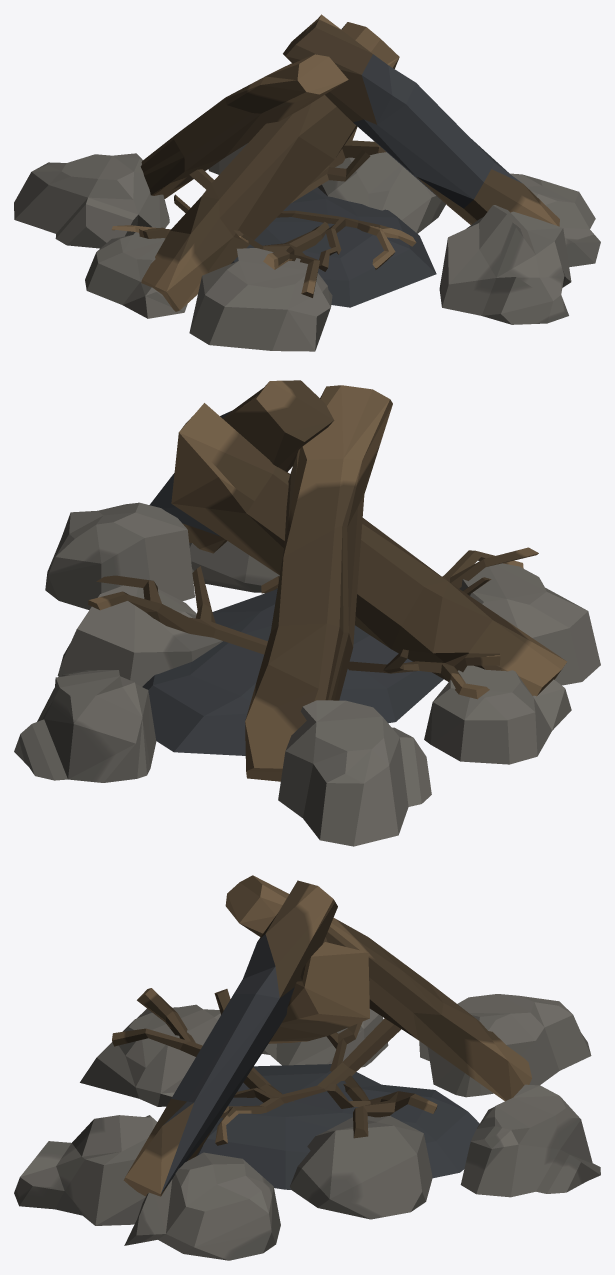
The model's file is SM_Prop_Campfire_01.fbx.
The picture shows the model from 3 angles, top to bottom: view 1: azimuth 30°, elevation 25°; view 2: azimuth 150°, elevation 25°; view 3: azimuth 270°, elevation 25°; orthographic projection. The views are drawn at different scales.
Parts seen in each view (by area): view 1: SM_Prop_Campfire_01; view 2: SM_Prop_Campfire_01; view 3: SM_Prop_Campfire_01.
Boxes of the visible parts, bbox=[...] form: SM_Prop_Campfire_01: bbox=[14, 14, 600, 351]; SM_Prop_Campfire_01: bbox=[14, 380, 600, 846]; SM_Prop_Campfire_01: bbox=[14, 875, 600, 1260].
Bounding box in the file's own units: 97.49 × 48.85 × 101.
